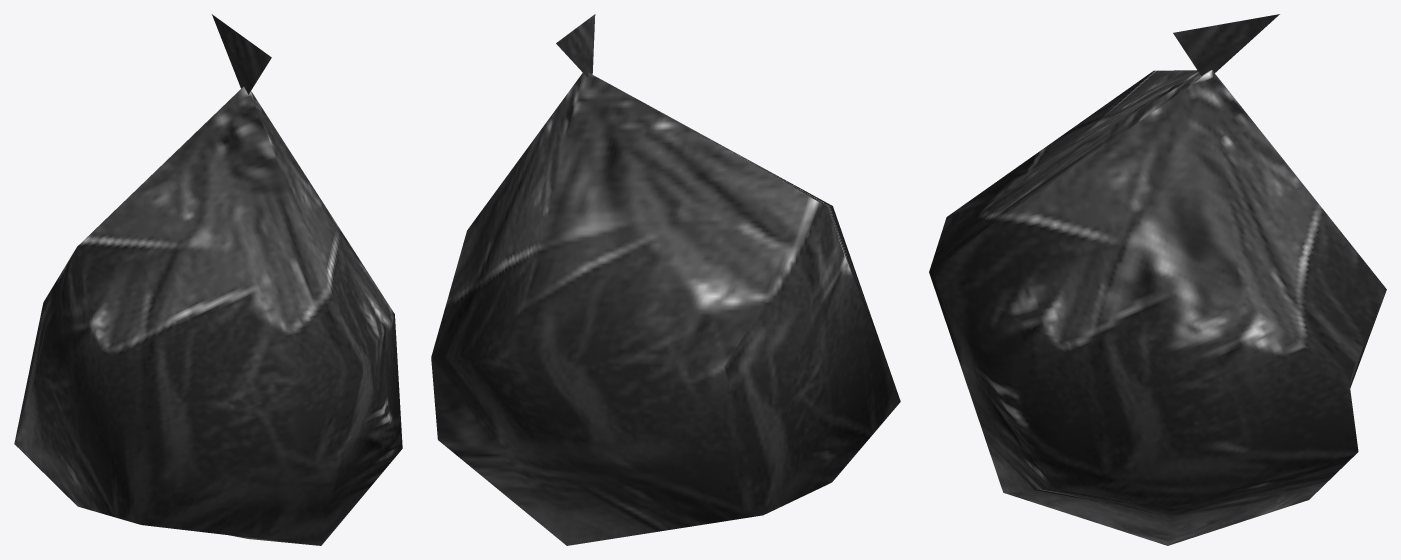
Rendered from Garbage_bags-col.glb.
The picture shows the model from 3 angles, left to right: view 1: azimuth 30°, elevation 25°; view 2: azimuth 150°, elevation 25°; view 3: azimuth 270°, elevation 25°; orthographic projection. The views are drawn at different scales.
Parts seen in each view (by area): view 1: Garbage_bags-col; view 2: Garbage_bags-col; view 3: Garbage_bags-col.
Boxes of the visible parts, left/top/right/bottom form: Garbage_bags-col: left=14, top=14, right=402, bottom=545; Garbage_bags-col: left=431, top=14, right=900, bottom=545; Garbage_bags-col: left=929, top=14, right=1386, bottom=545.
Size of the model in its own units: 2.67 by 4.22 by 3.25.
Materials: 1 (1 with a texture image).
